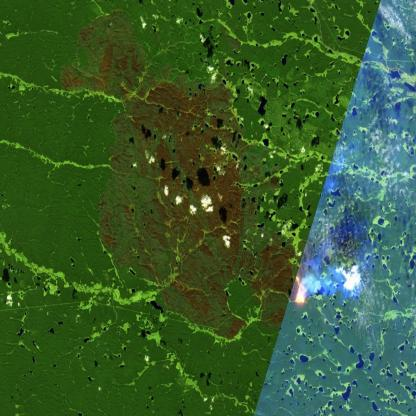fire: (285, 271, 312, 310)
